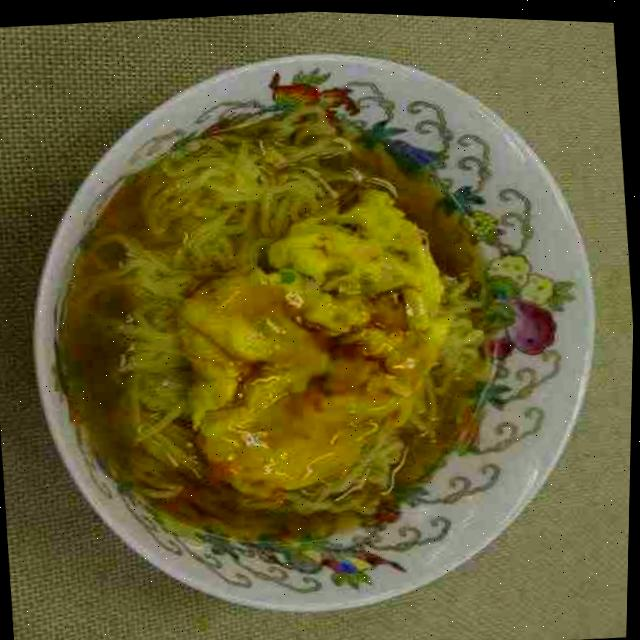面条主食: (2, 18, 626, 640)
